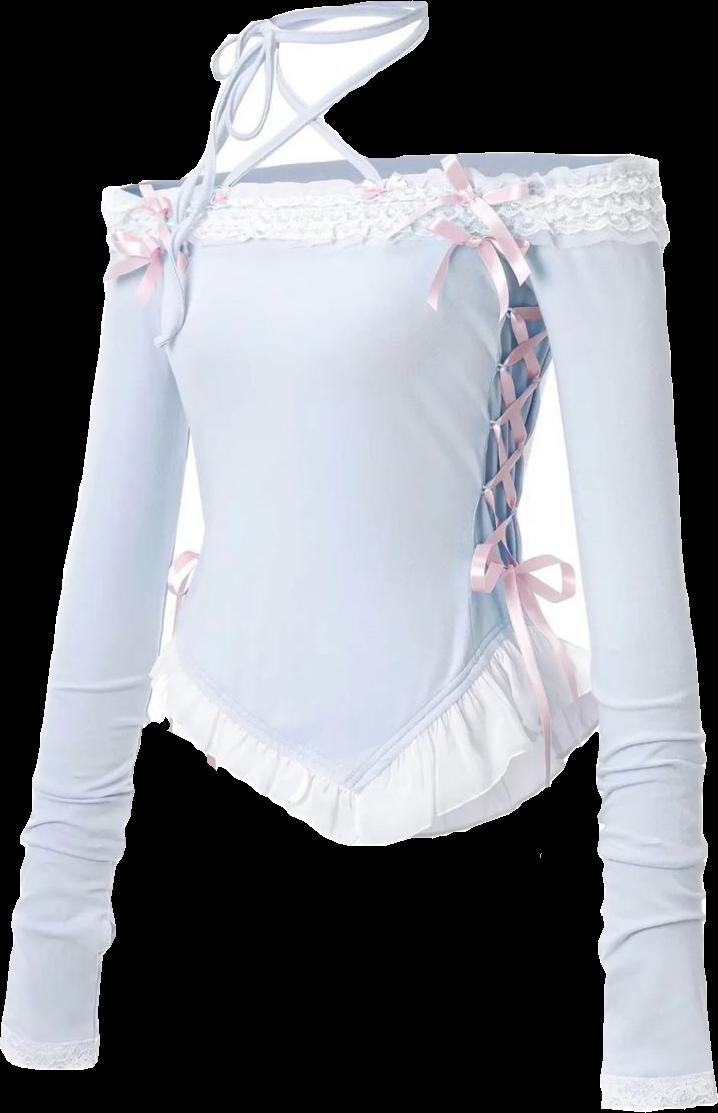Bodice: (97, 148, 674, 847)
Neckline: (165, 613, 550, 794), (96, 152, 661, 198)
Sleeve: (524, 233, 717, 1111), (0, 248, 193, 1070)
Sleeveline: (514, 232, 667, 276), (102, 240, 171, 257)
Waistline: (148, 682, 596, 851)
